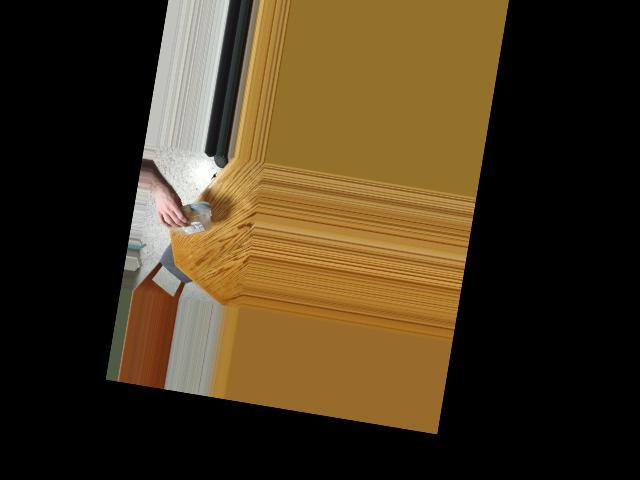cheese: (168, 201, 209, 236)
